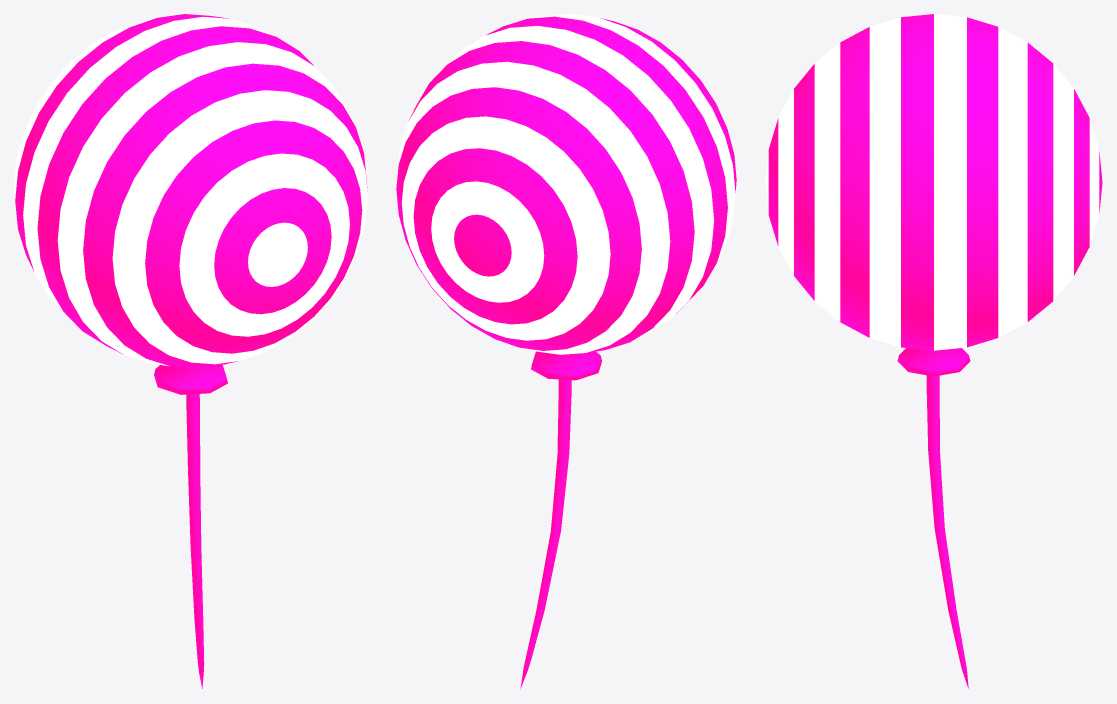
The model's file is pinkBalloon.glb.
3 renders of one model, left to right at view 1: azimuth 30°, elevation 25°; view 2: azimuth 150°, elevation 25°; view 3: azimuth 270°, elevation 25°, orthographic. The views are drawn at different scales.
Parts seen in each view (by area): view 1: pinkBalloon, Balloon-tail; view 2: pinkBalloon, Balloon-tail; view 3: pinkBalloon, Balloon-tail.
Part boxes in pixels (left/top/right/bottom): pinkBalloon: left=14, top=14, right=367, bottom=394; Balloon-tail: left=186, top=394, right=204, bottom=688; pinkBalloon: left=396, top=14, right=736, bottom=380; Balloon-tail: left=520, top=379, right=571, bottom=689; pinkBalloon: left=765, top=14, right=1102, bottom=376; Balloon-tail: left=926, top=375, right=968, bottom=688.
Size of what is drawn, in the model's own units: 2 by 4.23 by 2.
